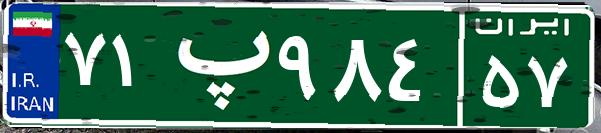1: (110, 28, 158, 105)
4: (385, 28, 445, 110)
5: (475, 38, 525, 113)
7: (57, 26, 110, 107), (525, 38, 570, 115)
8: (330, 28, 385, 110)
9: (273, 28, 330, 110)
پ: (158, 15, 273, 115)
